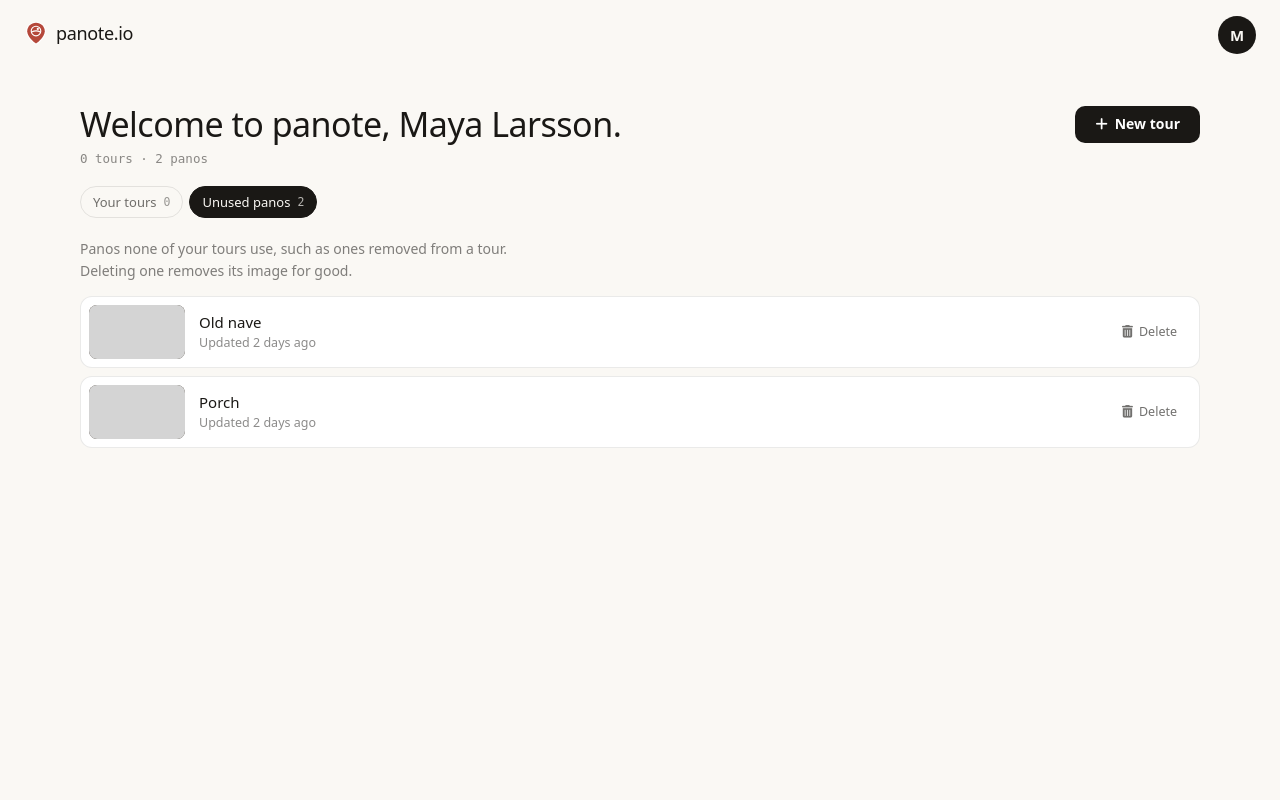
Test: Unused panos › confirms, deletes once despite a double click, and drops the row
Click the button with aria-label "Delete “Old nave”" at (1150, 332), box x1=1112 y1=316 x2=1187 y2=348
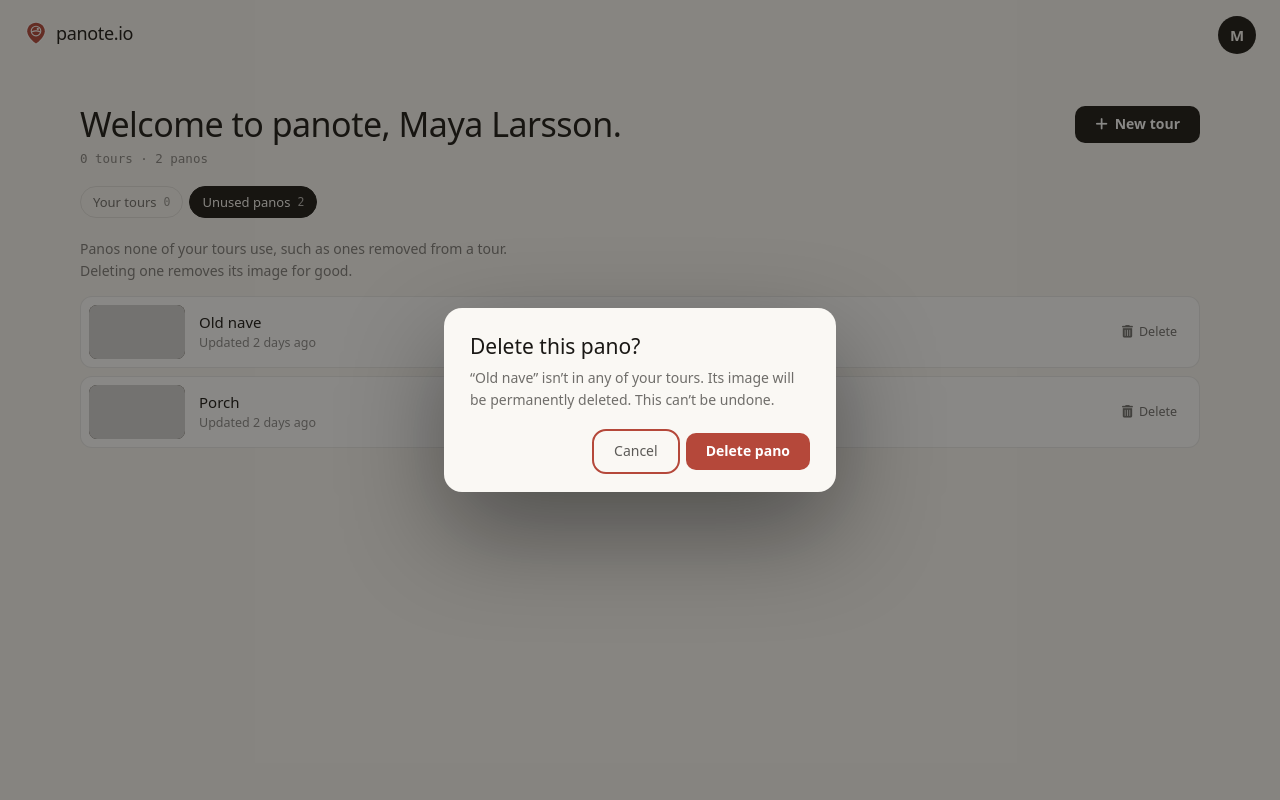
Expected: the dialog "Delete this pano?" shows "“Old nave” isn’t in any of your tours.", x1=470 y1=368 x2=794 y2=409
Click the button "Delete pano" at (748, 451), box x1=686 y1=433 x2=810 y2=470
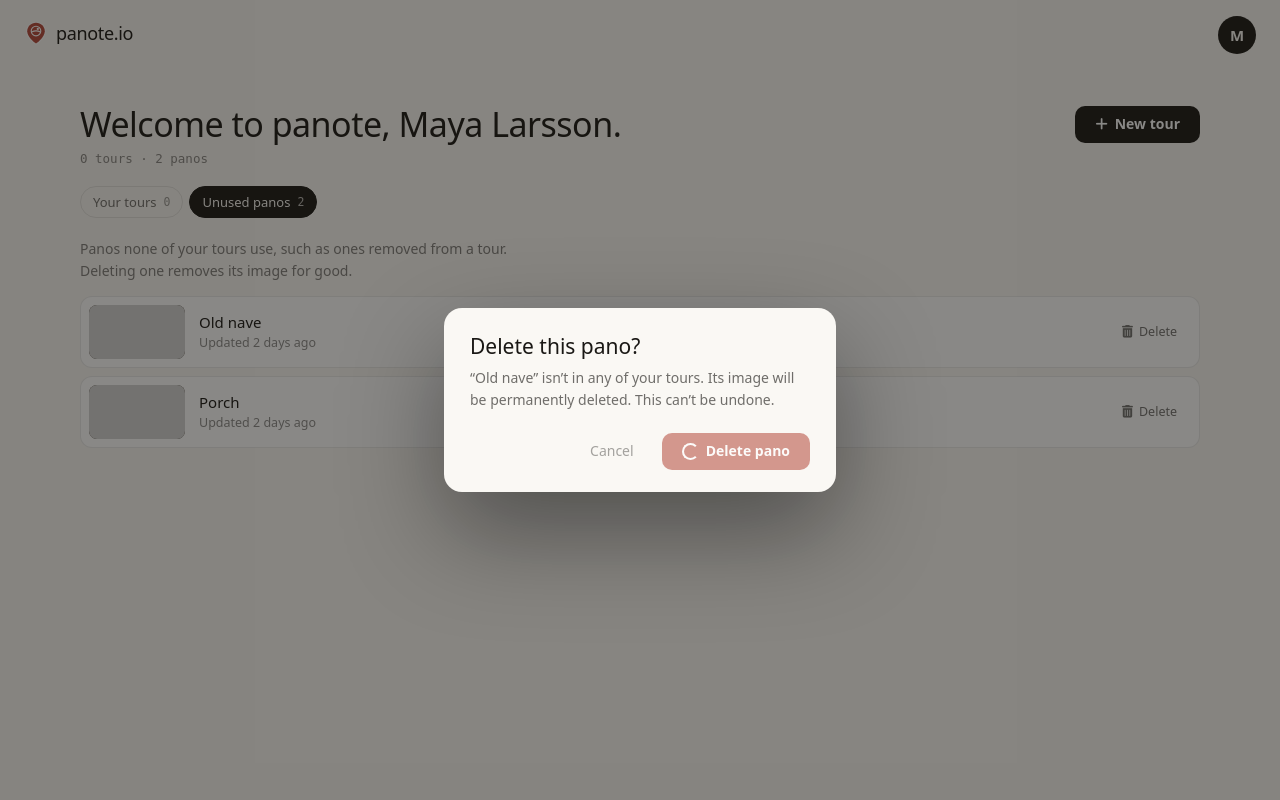
Click the button "Delete pano" at (736, 451), box x1=662 y1=433 x2=810 y2=470
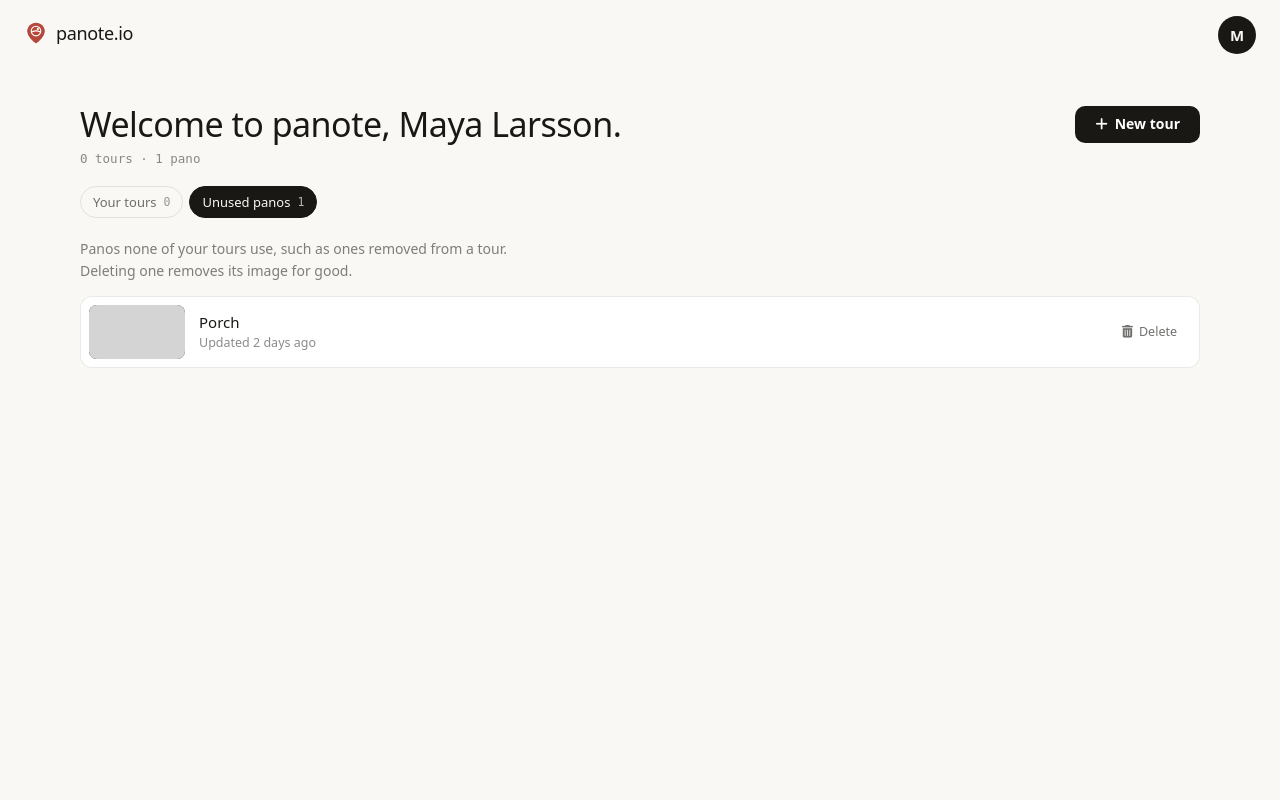
Expected: the text "Porch" is shown, x1=199 y1=312 x2=240 y2=332
Expected: the dialog is gone
Expected: the text "Old nave" is gone
